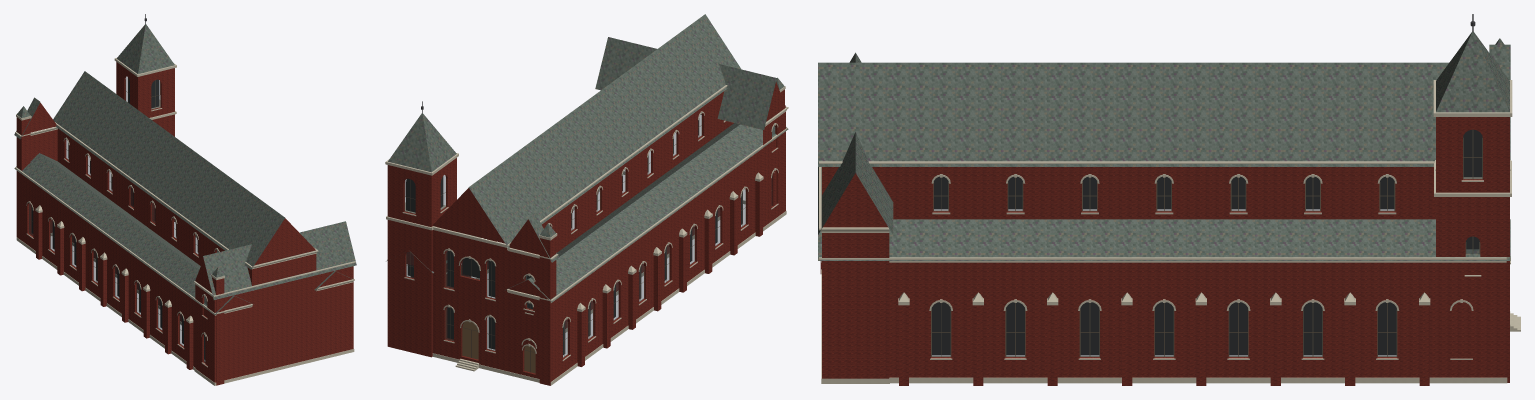
The model's file is st_michaels_church_1871__church_1869_1871.glb.
3 renders of one model, left to right at view 1: azimuth 30°, elevation 25°; view 2: azimuth 150°, elevation 25°; view 3: azimuth 270°, elevation 25°, orthographic. The views are drawn at different scales.
Visible parts, largest first — view 1: st_michaels_church_1871__church_1869_1871; view 2: st_michaels_church_1871__church_1869_1871; view 3: st_michaels_church_1871__church_1869_1871.
Boxes of the visible parts, x1=… form: st_michaels_church_1871__church_1869_1871: x1=14, y1=14, x2=356, y2=385; st_michaels_church_1871__church_1869_1871: x1=385, y1=14, x2=788, y2=385; st_michaels_church_1871__church_1869_1871: x1=818, y1=14, x2=1520, y2=385.
Size of the model in its own units: 25.81 by 34.7 by 62.63.
Materials: 8 (3 with a texture image).
